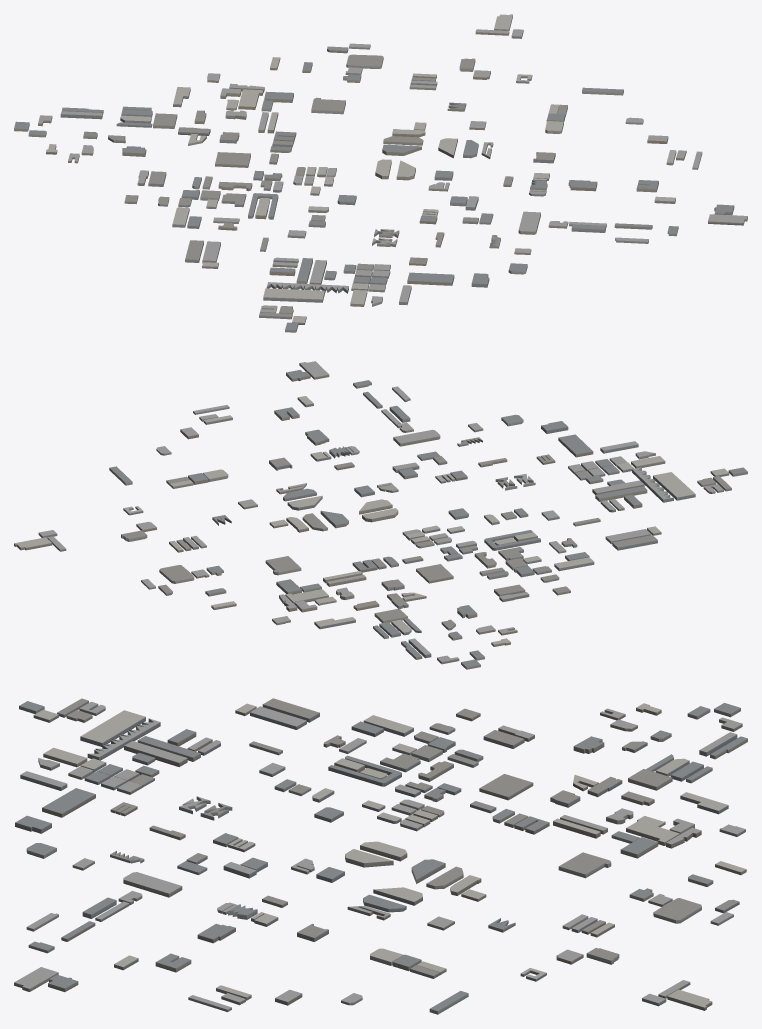
Rendered from bld_10_5.fbx.
3 renders of one model, top to bottom at view 1: azimuth 30°, elevation 25°; view 2: azimuth 150°, elevation 25°; view 3: azimuth 270°, elevation 25°, orthographic. The views are drawn at different scales.
Visible parts, largest first — view 1: bld_10_5_LOD0; view 2: bld_10_5_LOD0; view 3: bld_10_5_LOD0.
Boxes of the visible parts, <box> form: bld_10_5_LOD0: <box>14,14,747,332</box>; bld_10_5_LOD0: <box>14,361,747,669</box>; bld_10_5_LOD0: <box>14,698,747,1014</box>.
Size of the model in its own units: 2096 by 14.16 by 2074.
